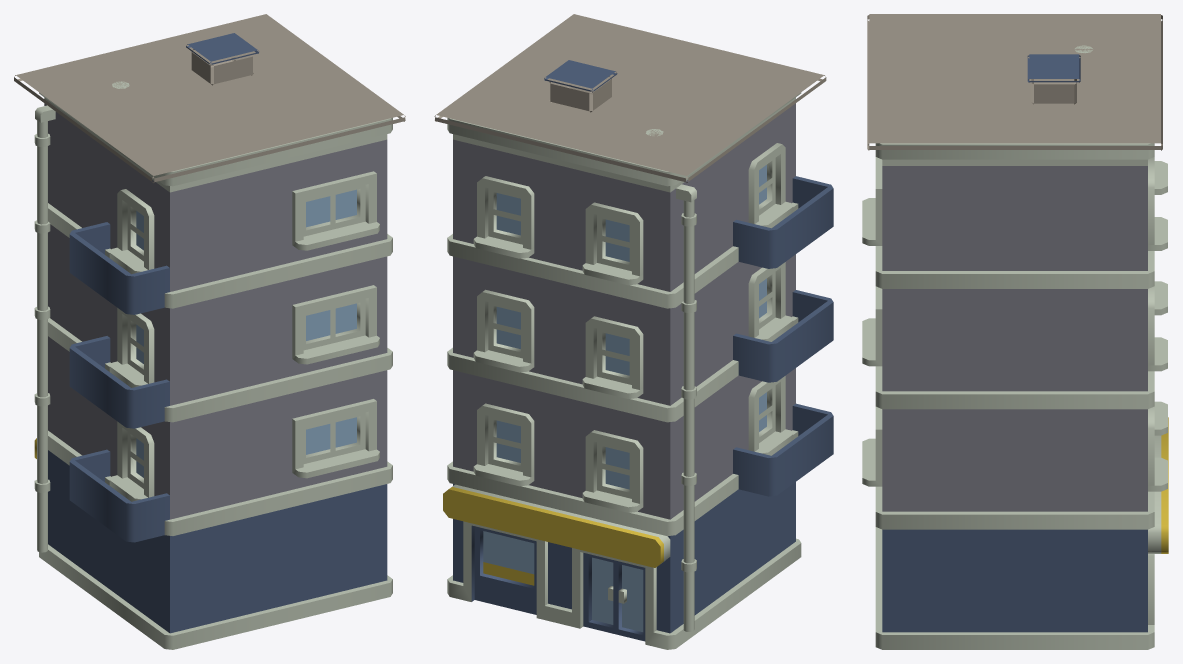
File: shop-a.glb
The picture shows the model from 3 angles, left to right: view 1: azimuth 30°, elevation 25°; view 2: azimuth 150°, elevation 25°; view 3: azimuth 270°, elevation 25°; orthographic projection. The views are drawn at different scales.
Visible parts, largest first — view 1: shop-a; view 2: shop-a; view 3: shop-a.
Boxes of the visible parts, bbox=[...] form: shop-a: bbox=[14, 14, 405, 649]; shop-a: bbox=[434, 14, 833, 649]; shop-a: bbox=[862, 14, 1168, 649].
Bounding box in the file's own units: 0.872 × 1.57 × 0.8079.
